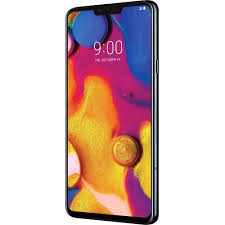lg: (61, 1, 163, 225)
